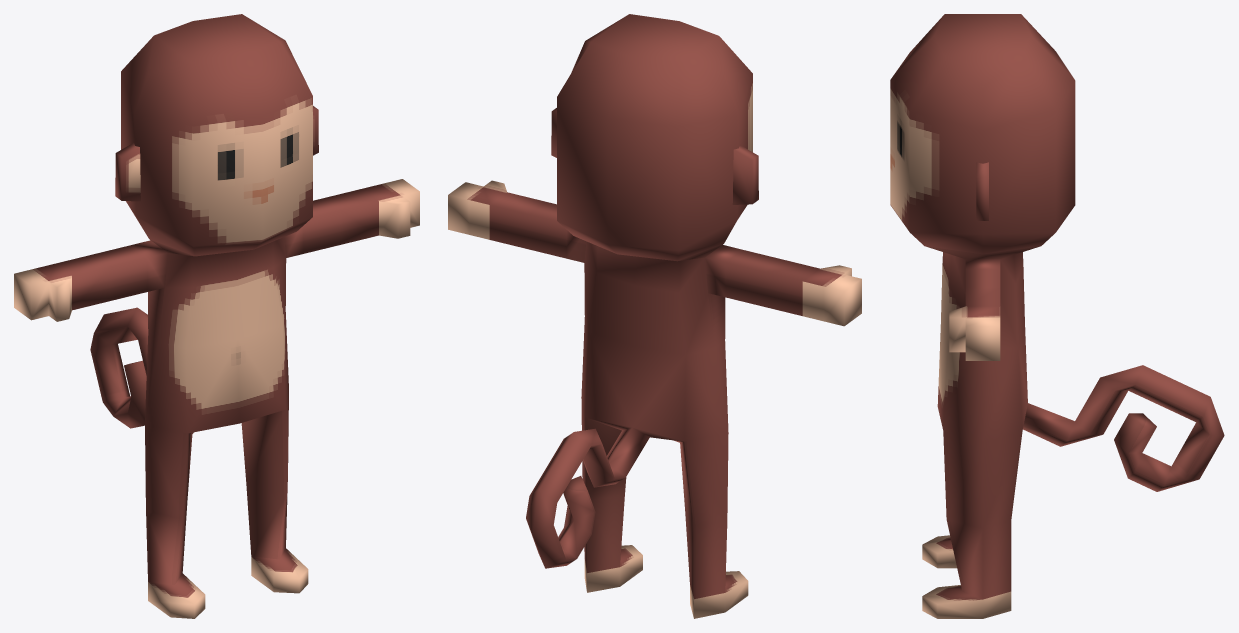
File: nobones.fbx
3 renders of one model, left to right at view 1: azimuth 30°, elevation 25°; view 2: azimuth 150°, elevation 25°; view 3: azimuth 270°, elevation 25°, orthographic.
Visible parts, largest first — view 1: MrMo_A; view 2: MrMo_A; view 3: MrMo_A.
Part boxes in pixels (left/top/right/bottom): MrMo_A: left=14, top=14, right=419, bottom=618; MrMo_A: left=448, top=14, right=861, bottom=618; MrMo_A: left=890, top=14, right=1224, bottom=618.
Size of the model in its own units: 207 by 278 by 153.
1 material, 1 textured.
